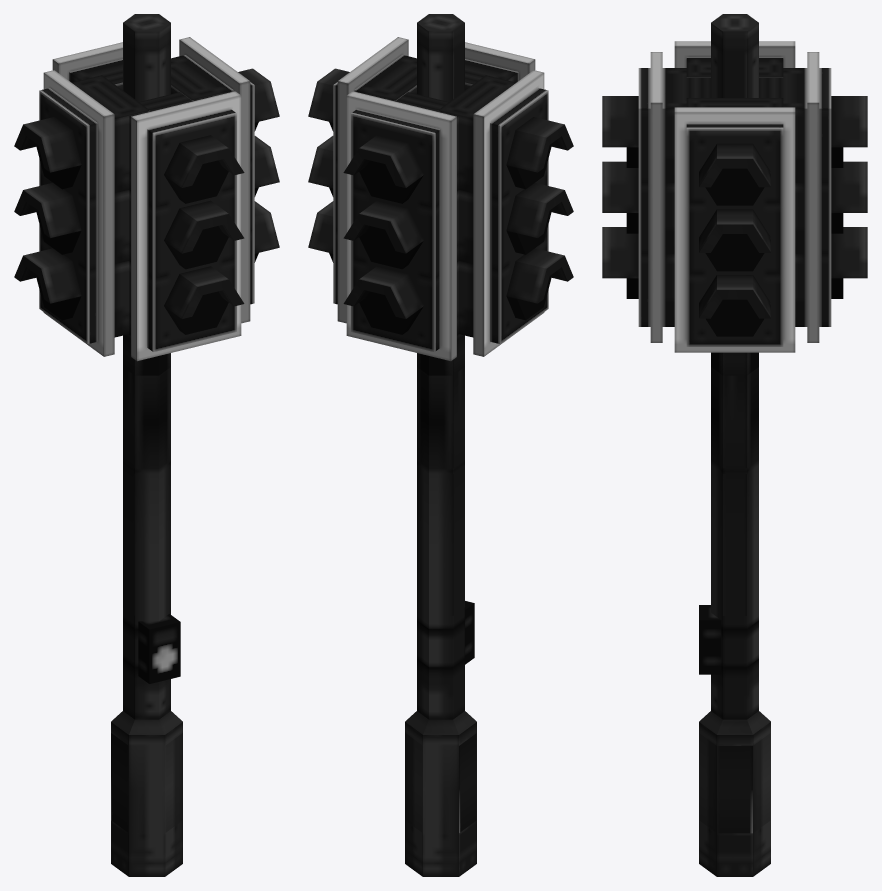
File: TrafficLight_Quad.fbx
The picture shows the model from 3 angles, left to right: view 1: azimuth 30°, elevation 25°; view 2: azimuth 150°, elevation 25°; view 3: azimuth 270°, elevation 25°; orthographic projection.
Visible parts, largest first — view 1: TrafficLight_Quad; view 2: TrafficLight_Quad; view 3: TrafficLight_Quad.
Boxes of the visible parts, <box> form: TrafficLight_Quad: <box>14,14,279,876</box>; TrafficLight_Quad: <box>308,14,573,876</box>; TrafficLight_Quad: <box>602,14,867,876</box>.
Bounding box in the file's own units: 11 × 38.5 × 11.
